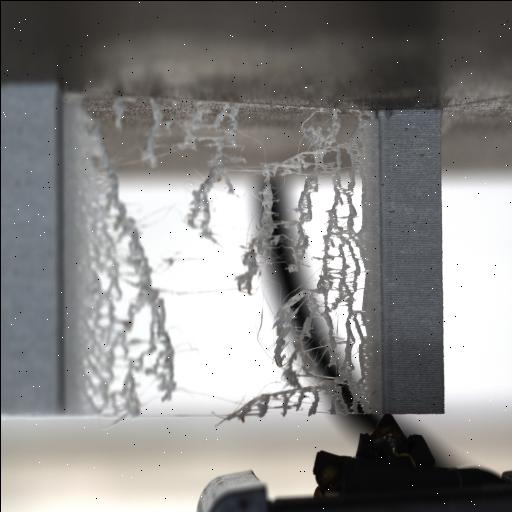stringing: (213, 111, 367, 424), (72, 100, 182, 424), (178, 100, 248, 255), (238, 142, 282, 294)
